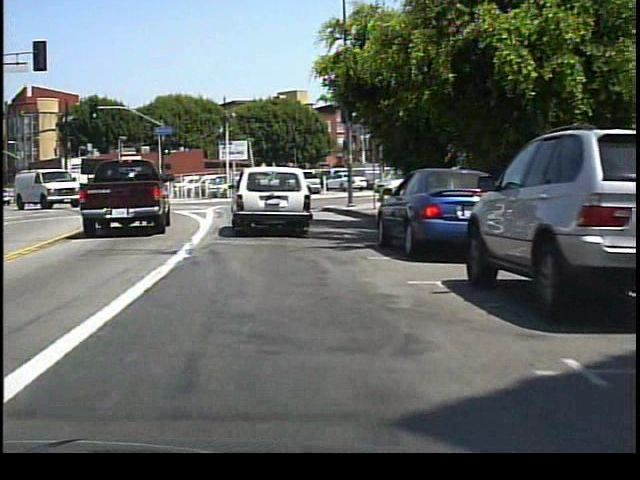person: (343, 168, 359, 199)
